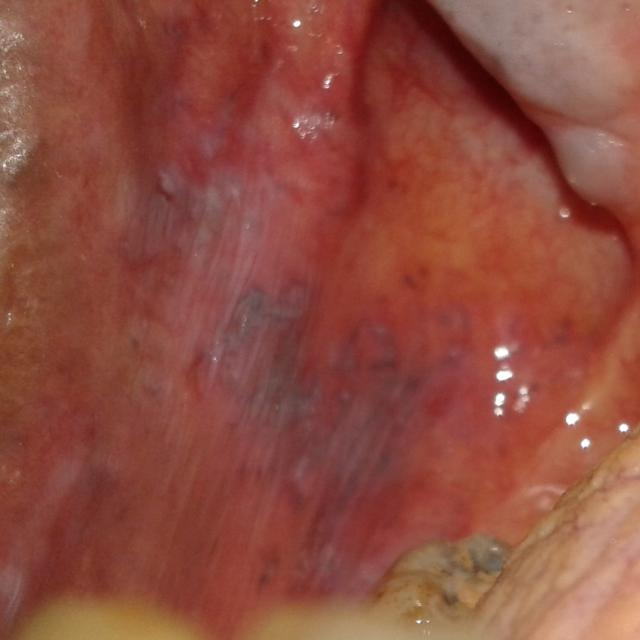Cancer: (308, 314, 572, 549), (430, 2, 640, 226)
